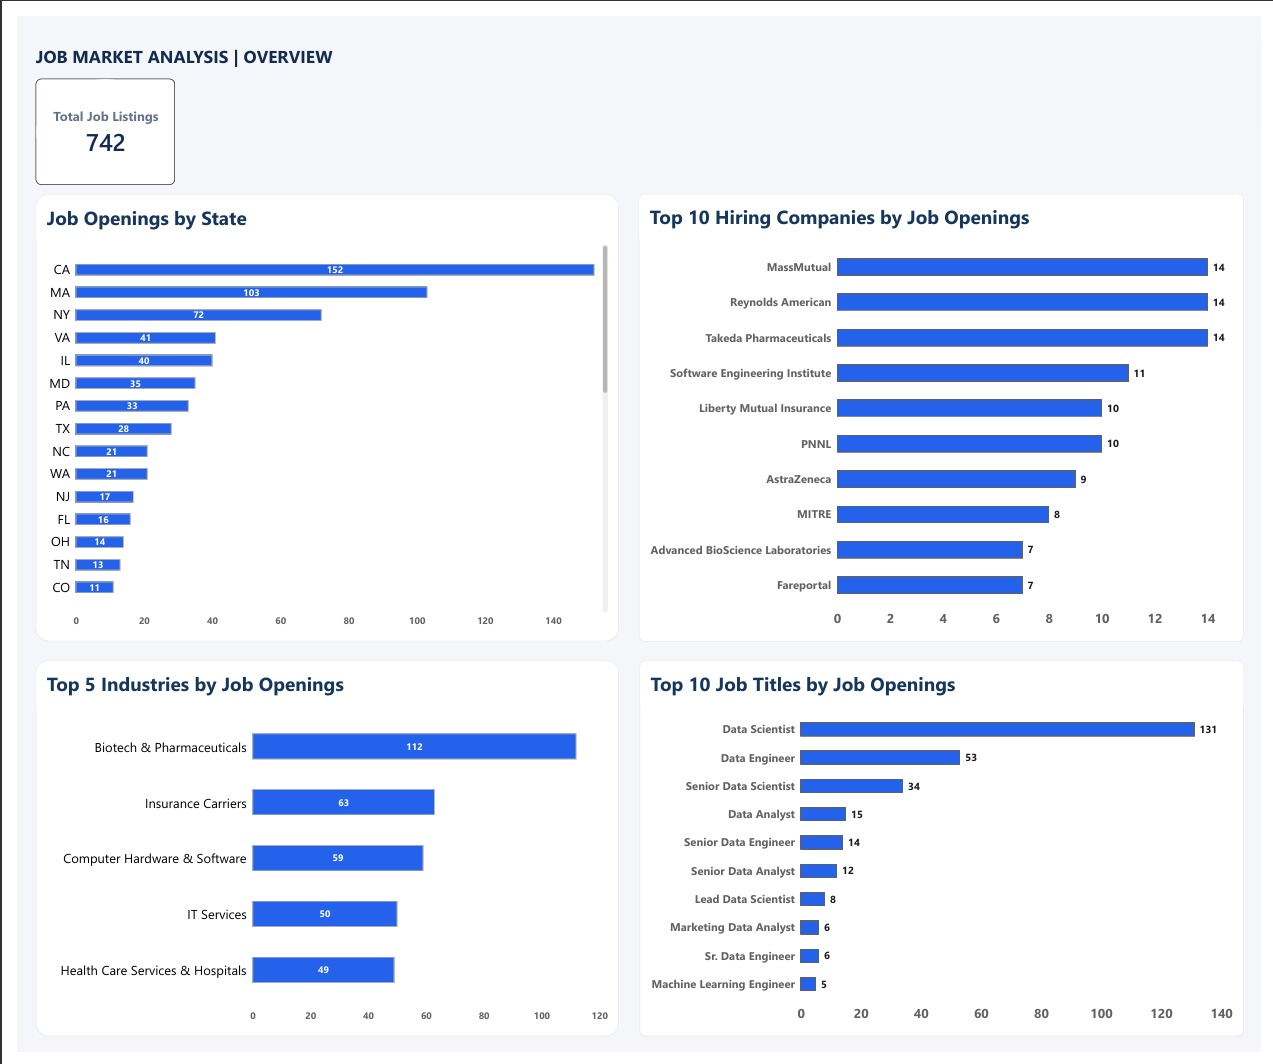

The dashboard page shown, as its layout file describes it:
{"tool":"powerbi","page":{"name":"Job Market Overview","canvas":[1920,1600],"ordinal":0},"visuals":[{"type":"cardVisual","title":"Total Job Listings","fields":{"Data":["CountNonNull(Job_Market.ID)"]},"box":[28.1,96.1,215.7,164.1],"z":0},{"type":"clusteredBarChart","title":"Top 10 Hiring Companies by Job Openings","fields":{"Category":["Job_Market.company_txt"],"Y":["CountNonNull(Job_Market.ID)"]},"box":[958.6,274.4,934.3,691.2],"z":1000},{"type":"clusteredBarChart","title":"Job Openings by State","fields":{"Category":["Job_Market.Job_Location"],"Y":["CountNonNull(Job_Market.ID)"]},"box":[27.5,275,900,690],"z":2000},{"type":"clusteredBarChart","title":"Top 5 Industries by Job Openings","fields":{"Category":["Job_Market.Industry"],"Y":["CountNonNull(Job_Market.ID)"]},"box":[27.5,995,900,580],"z":3000},{"type":"clusteredBarChart","title":"Top 10 Job Titles by Job Openings","fields":{"Category":["Job_Market.Job_Title"],"Y":["CountNonNull(Job_Market.ID)"]},"box":[960,995,932.5,580],"z":4000},{"type":"textbox","box":[28,42,614,54],"z":5000}]}

Visuals, with their boxes in screenshot pixels (x1, y1, x2, y2), scaled from the page's 1920x1600 canvas onto the 1273x1064 screenshot:
"Total Job Listings" cardVisual: BBox(19, 64, 162, 173)
"Top 10 Hiring Companies by Job Openings" clusteredBarChart: BBox(636, 182, 1255, 642)
"Job Openings by State" clusteredBarChart: BBox(18, 183, 615, 642)
"Top 5 Industries by Job Openings" clusteredBarChart: BBox(18, 662, 615, 1047)
"Top 10 Job Titles by Job Openings" clusteredBarChart: BBox(636, 662, 1255, 1047)
textbox: BBox(19, 28, 426, 64)
